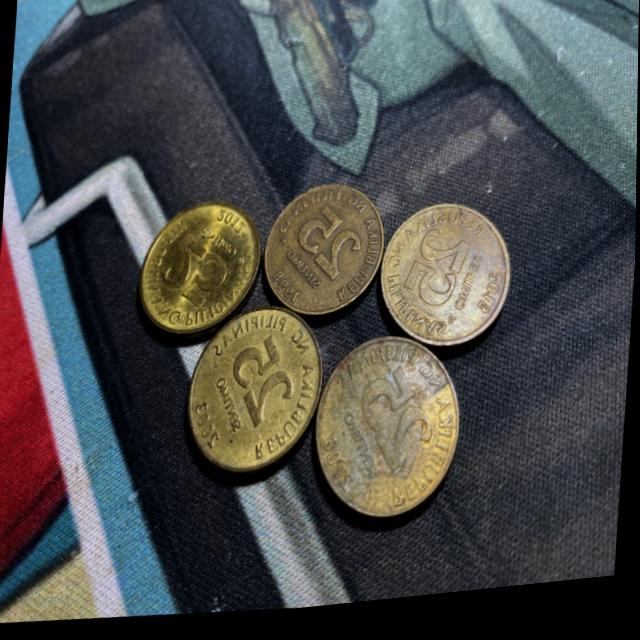25Cent_Old_Front: (359, 372, 438, 486), (226, 338, 297, 434), (291, 205, 367, 293), (401, 233, 474, 321), (158, 235, 229, 321)
